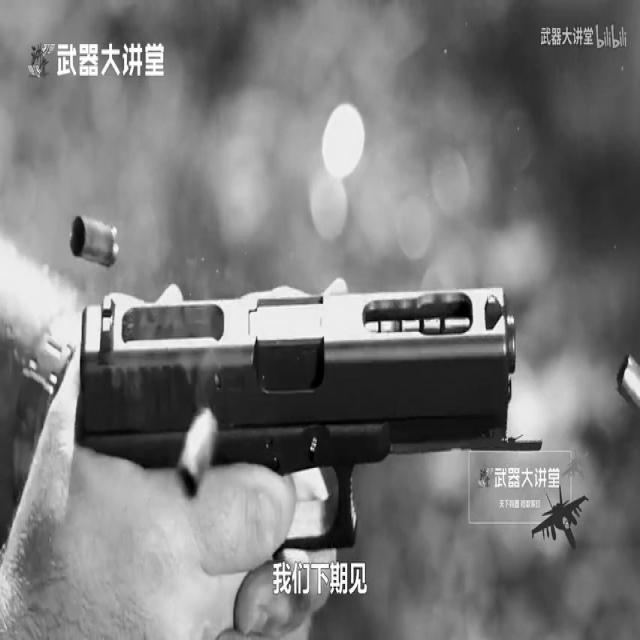Hand-Gun: (60, 197, 608, 640)
